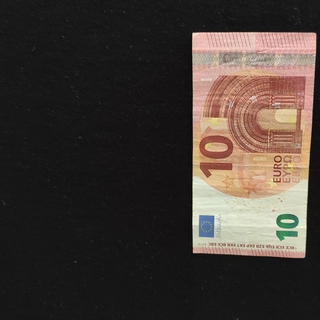10EUROFront: (191, 31, 317, 258)
